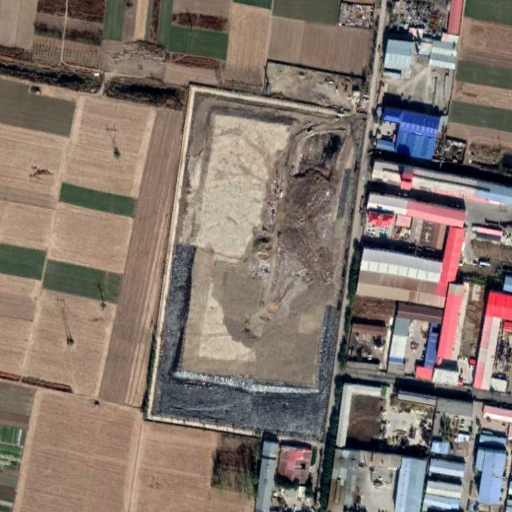lf: (148, 93, 366, 440)
